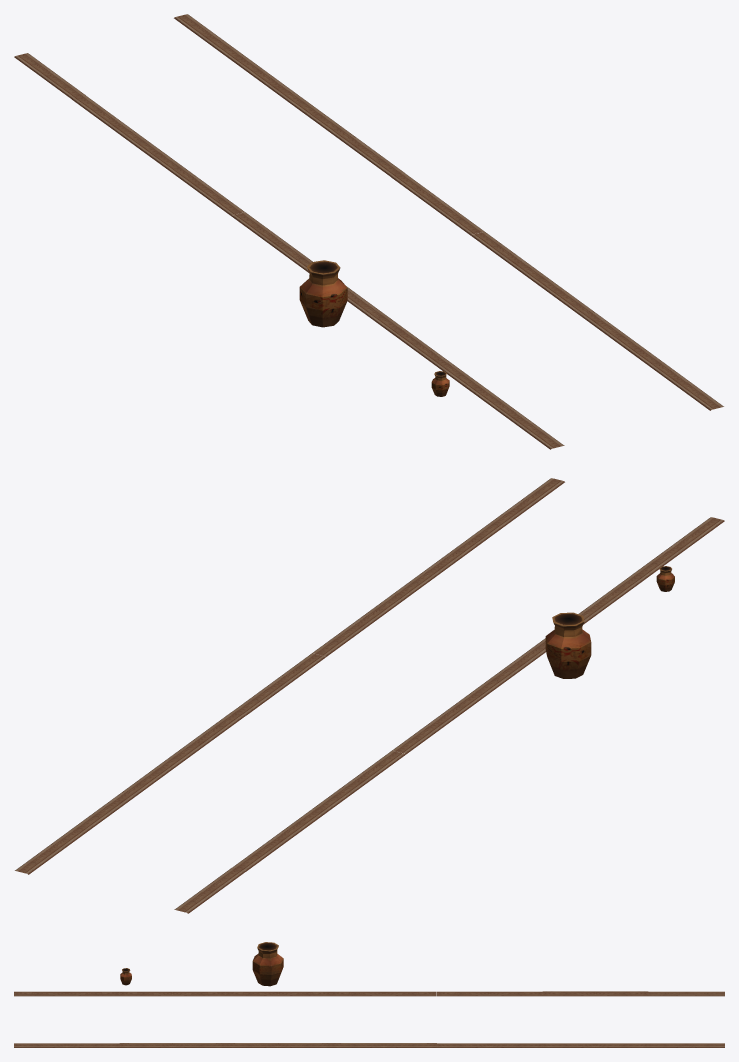
The model's file is Area_06_16.fbx.
3 renders of one model, top to bottom at view 1: azimuth 30°, elevation 25°; view 2: azimuth 150°, elevation 25°; view 3: azimuth 270°, elevation 25°, orthographic. The views are drawn at different scales.
Visible parts, largest first — view 1: Area_06_16; view 2: Area_06_16; view 3: Area_06_16.
Boxes of the visible parts, <box> form: Area_06_16: <box>14,14,723,449</box>; Area_06_16: <box>15,478,724,913</box>; Area_06_16: <box>14,942,724,1047</box>.
Size of the model in its own units: 1196 by 266 by 4835.
